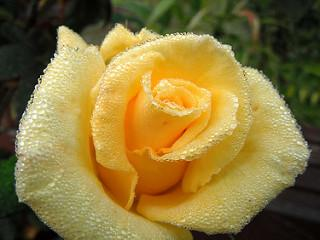Rose: (31, 17, 311, 240)
